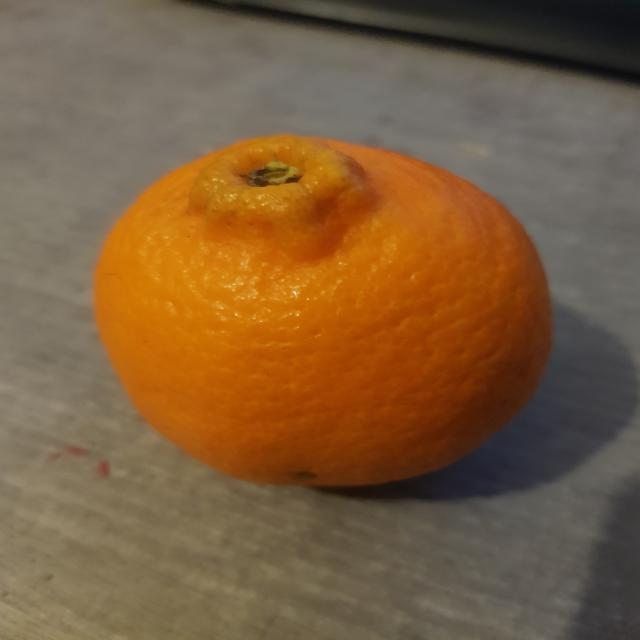Orange: (91, 134, 554, 491)
